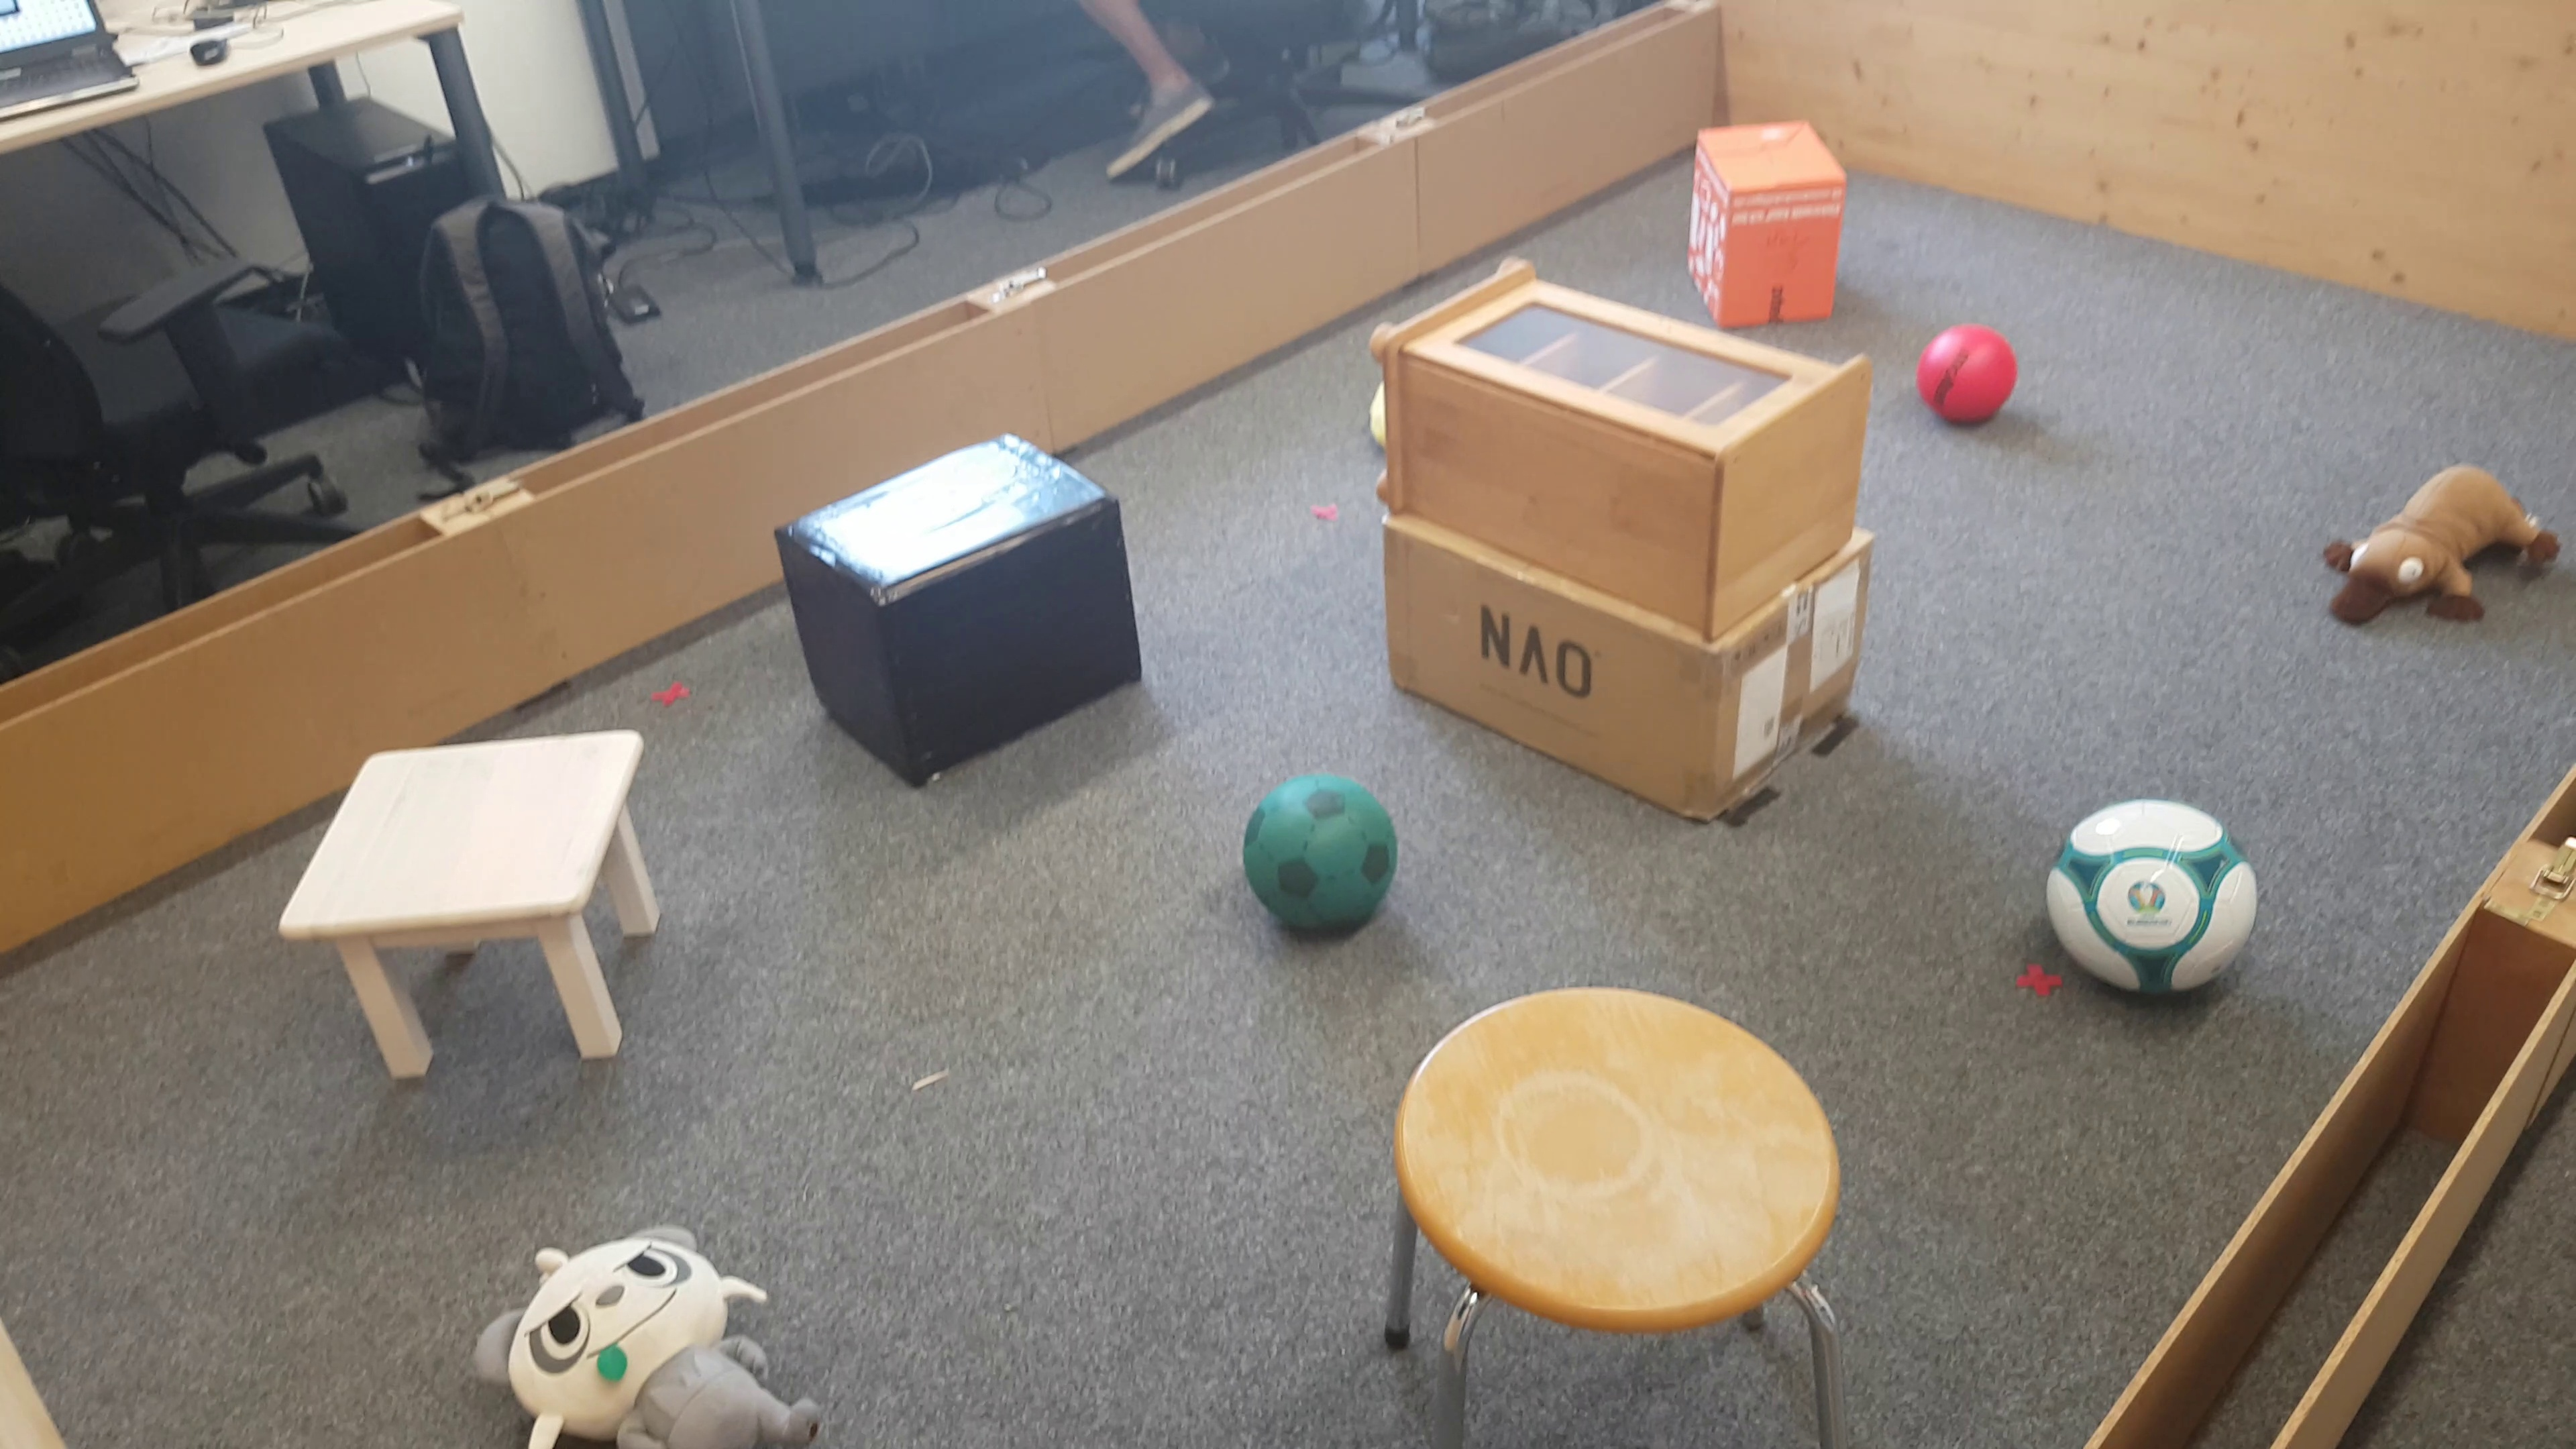grasp: (469, 1224, 819, 1449), (2318, 458, 2560, 639)
kick: (2049, 801, 2254, 1008), (1238, 773, 1399, 945), (1916, 324, 2019, 433)
push: (775, 439, 1146, 789), (1686, 119, 1844, 336)
